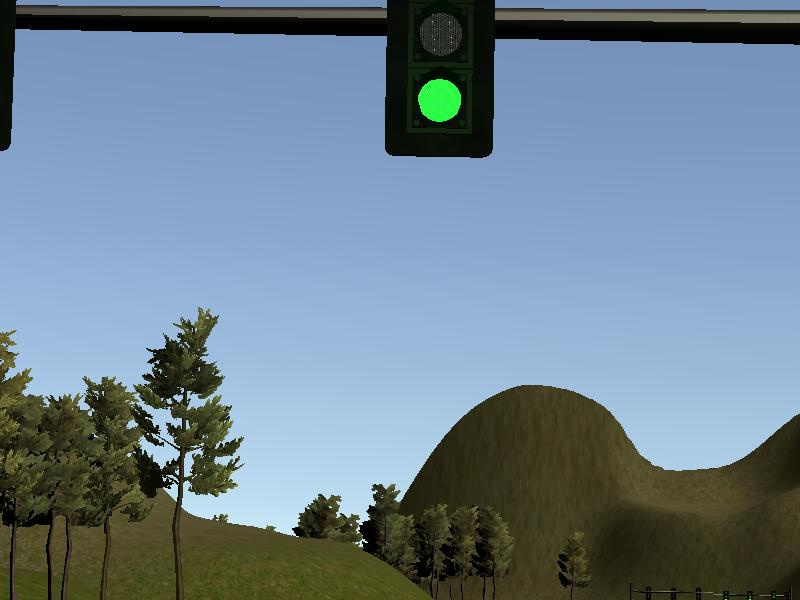green_light: (388, 1, 494, 160)
